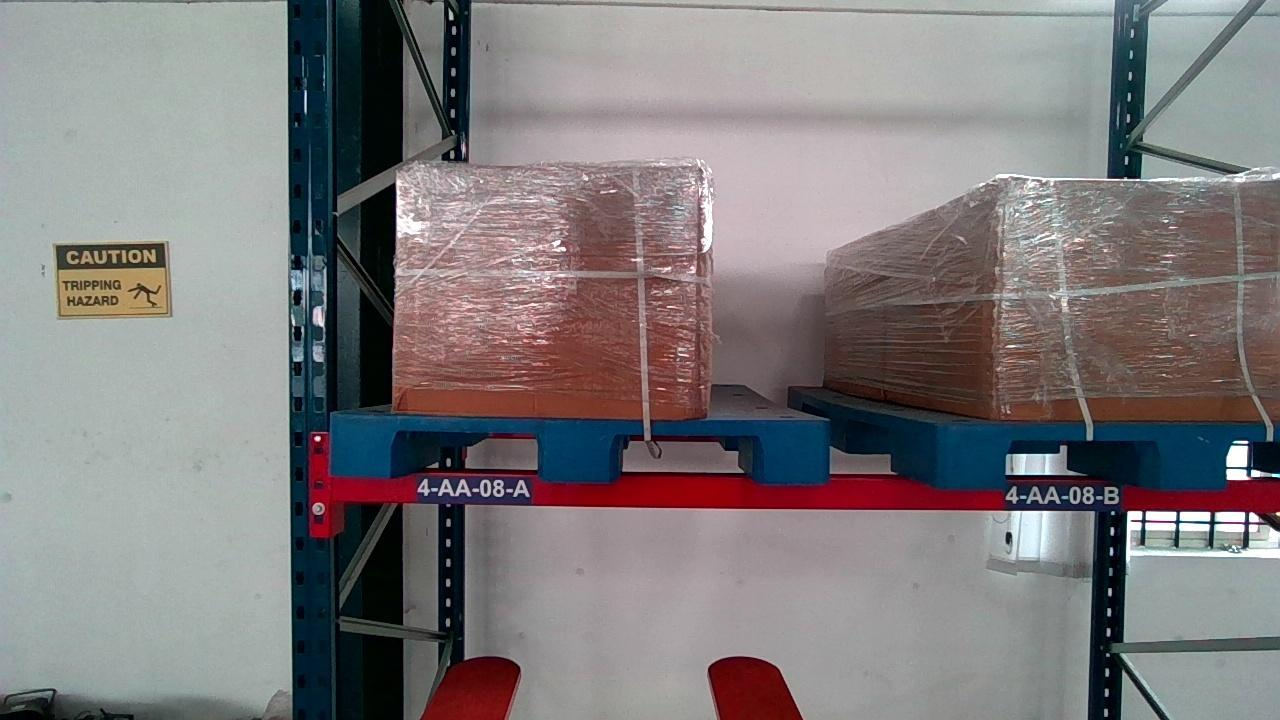h_rack: (321, 470, 1280, 509)
small_pallet: (324, 406, 828, 480), (953, 418, 1280, 487)
